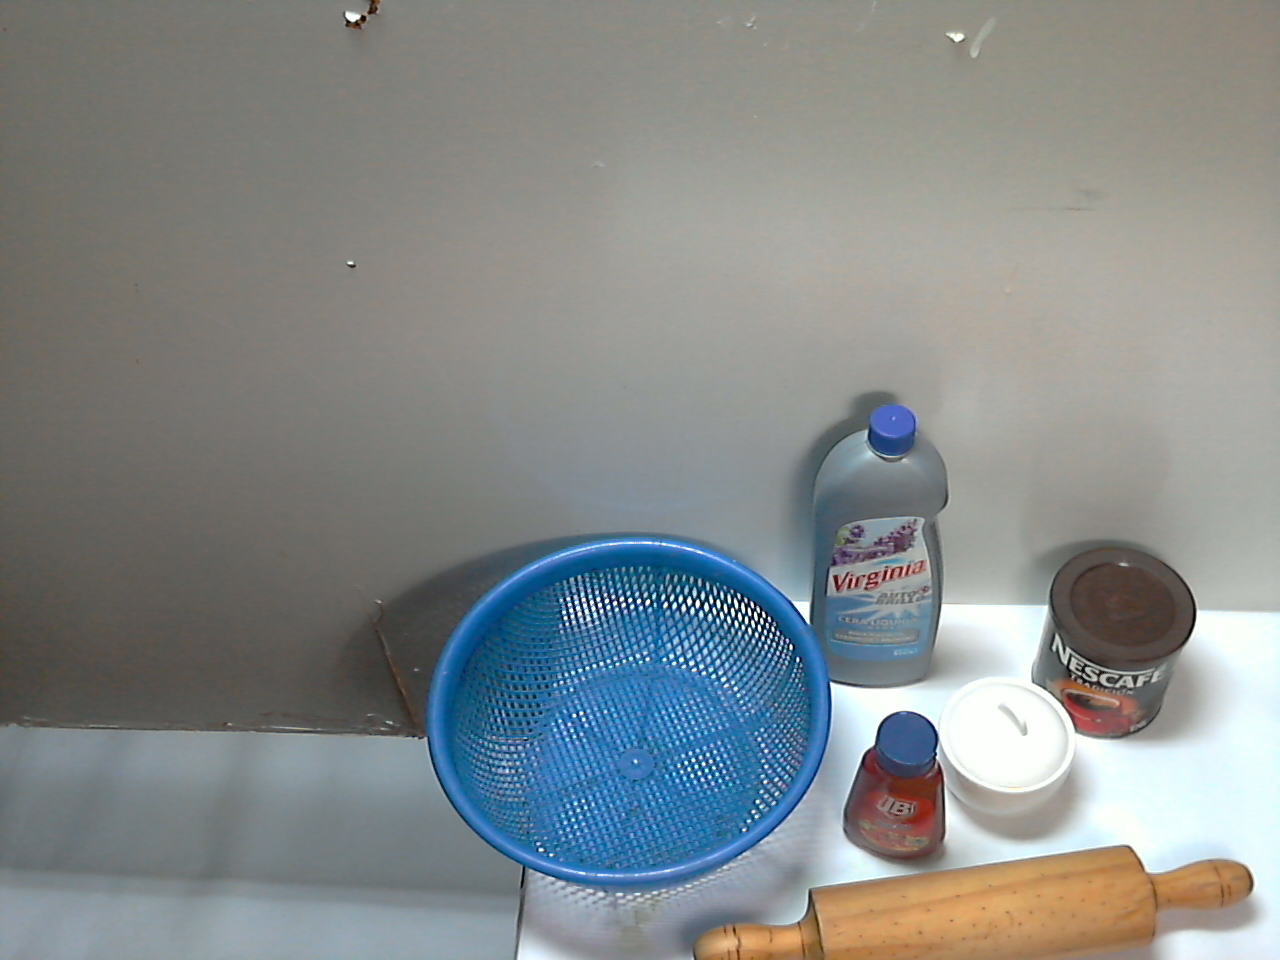cloro: (926, 537, 1113, 795)
cubix: (483, 757, 598, 888)
harina: (518, 554, 690, 773)
leche: (723, 559, 888, 782)
limon: (644, 785, 774, 919)
platano: (823, 785, 1120, 950)
